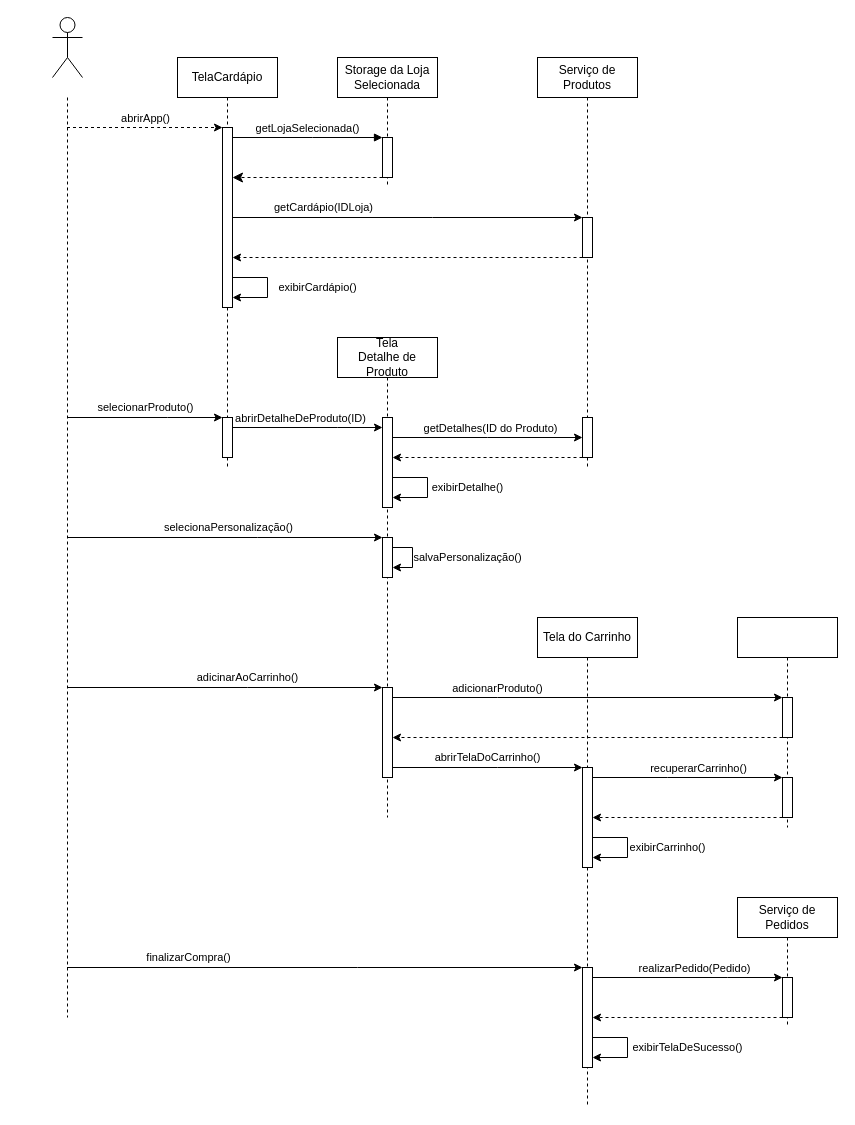
The diagram is 855 pixels wide and 1125 high, and some of its shapes have lost their labels. Each missing label, with the centre of its shape:
Cliente: the point at 67,47
Storage de Carrinho: the point at 787,722
